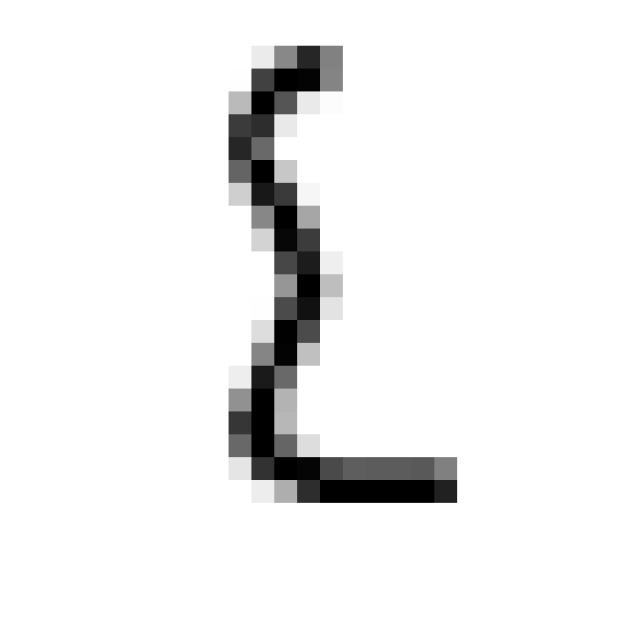4 -four-: (208, 18, 475, 530)
